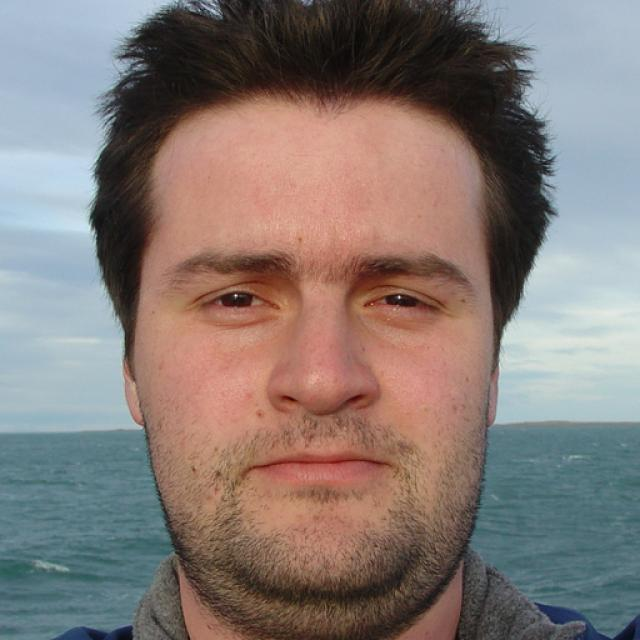neutral: (131, 88, 495, 606)
